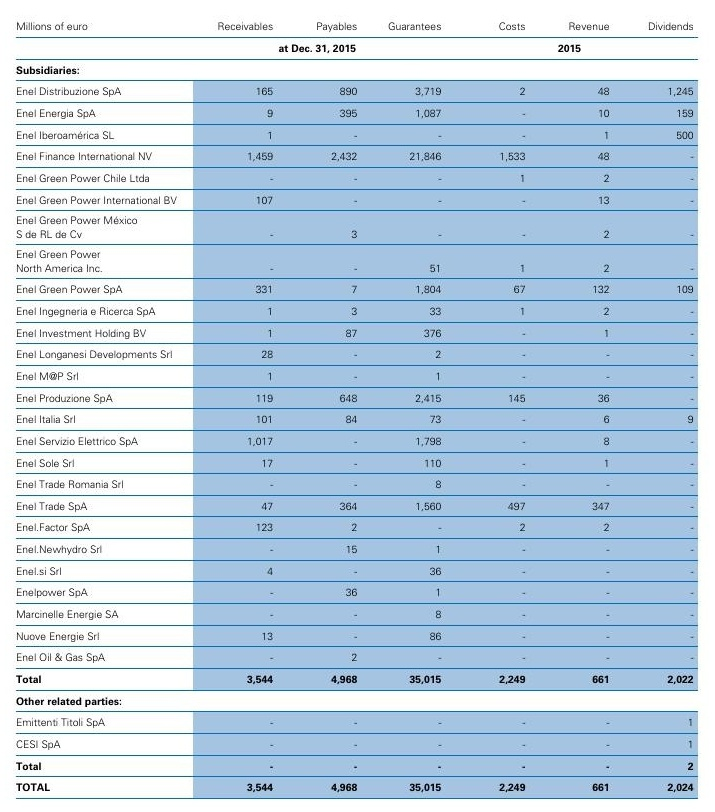table: (0, 0, 715, 812)
